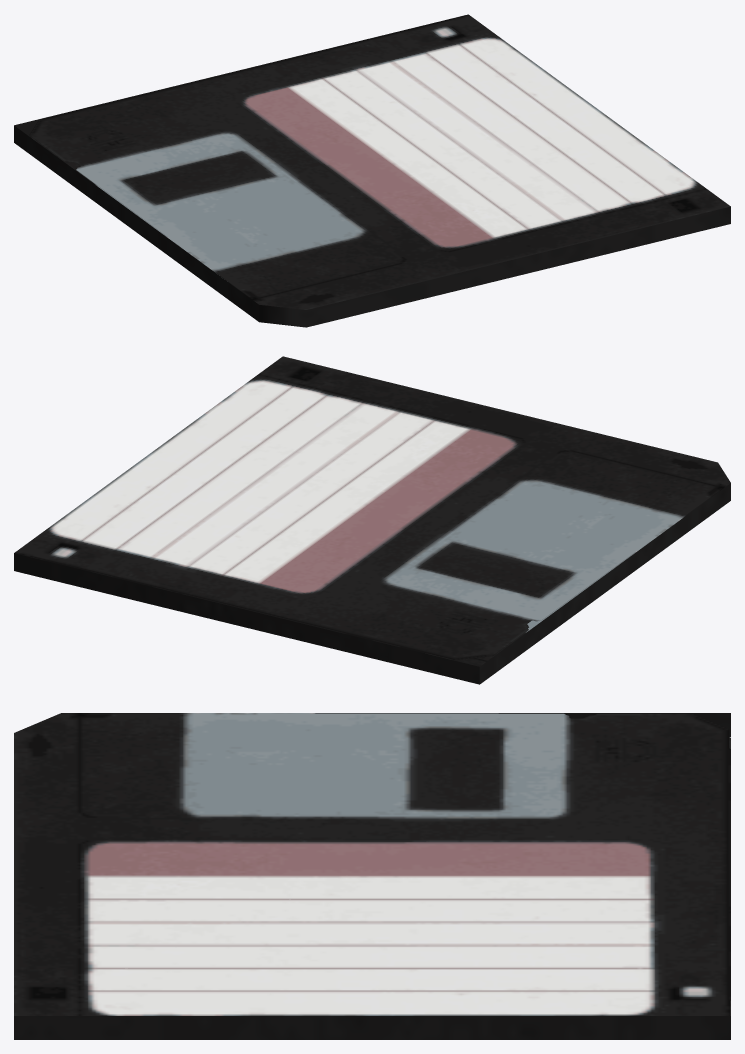
The model's file is DiskBlack.fbx.
The picture shows the model from 3 angles, top to bottom: view 1: azimuth 30°, elevation 25°; view 2: azimuth 150°, elevation 25°; view 3: azimuth 270°, elevation 25°; orthographic projection. The views are drawn at different scales.
Visible parts, largest first — view 1: Black; view 2: Black; view 3: Black.
Boxes of the visible parts, <box> form: Black: <box>14,14,730,327</box>; Black: <box>14,356,730,684</box>; Black: <box>14,713,730,1039</box>.
Bounding box in the file's own units: 0.09 × 0.0033 × 0.09.
